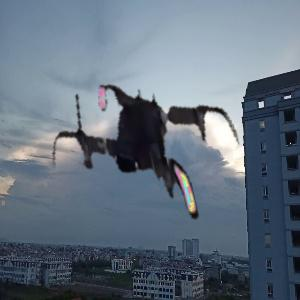drone: (46, 60, 247, 261)
